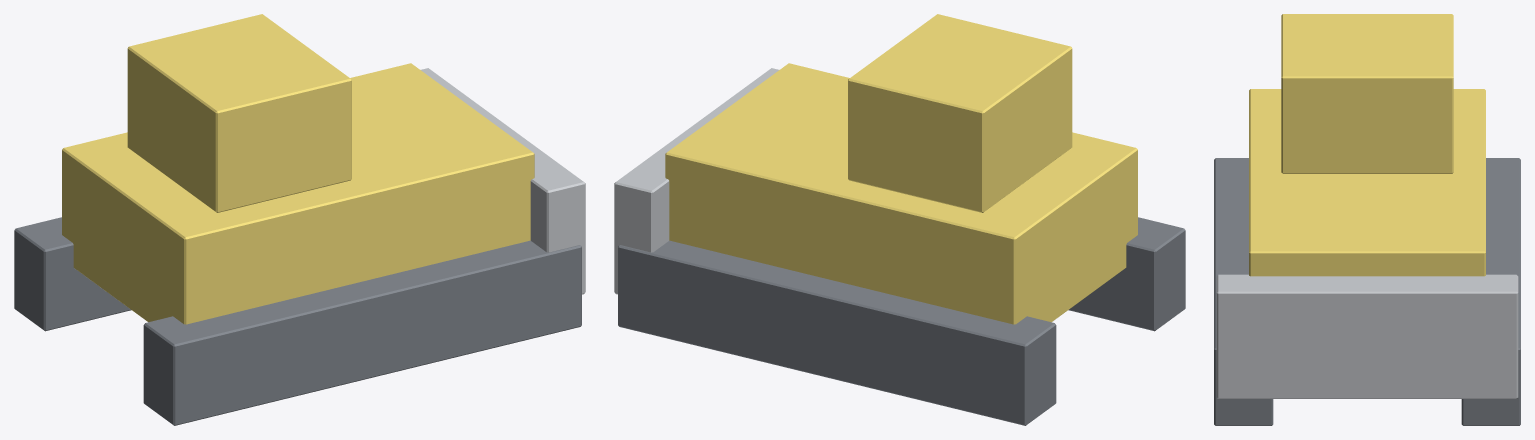
The model's file is 车_推土机_01.fbx.
3 renders of one model, left to right at view 1: azimuth 30°, elevation 25°; view 2: azimuth 150°, elevation 25°; view 3: azimuth 270°, elevation 25°, orthographic. The views are drawn at different scales.
Visible parts, largest first — view 1: 车体.001, 履带, 驾驶室.005, 铲刀; view 2: 车体.001, 履带, 驾驶室.005, 铲刀; view 3: 铲刀, 车体.001, 驾驶室.005, 履带.
Part boxes in pixels (x1=…): 车体.001: x1=62, y1=63, x2=534, y2=324; 履带: x1=14, y1=217, x2=581, y2=425; 驾驶室.005: x1=127, y1=14, x2=351, y2=212; 铲刀: x1=421, y1=68, x2=585, y2=294; 车体.001: x1=665, y1=63, x2=1137, y2=324; 履带: x1=618, y1=217, x2=1185, y2=425; 驾驶室.005: x1=848, y1=14, x2=1072, y2=212; 铲刀: x1=614, y1=68, x2=778, y2=294; 铲刀: x1=1216, y1=274, x2=1518, y2=398; 车体.001: x1=1249, y1=89, x2=1485, y2=276; 驾驶室.005: x1=1281, y1=14, x2=1453, y2=173; 履带: x1=1214, y1=158, x2=1520, y2=425.
Bounding box in the file's own units: 425 × 265 × 285.
